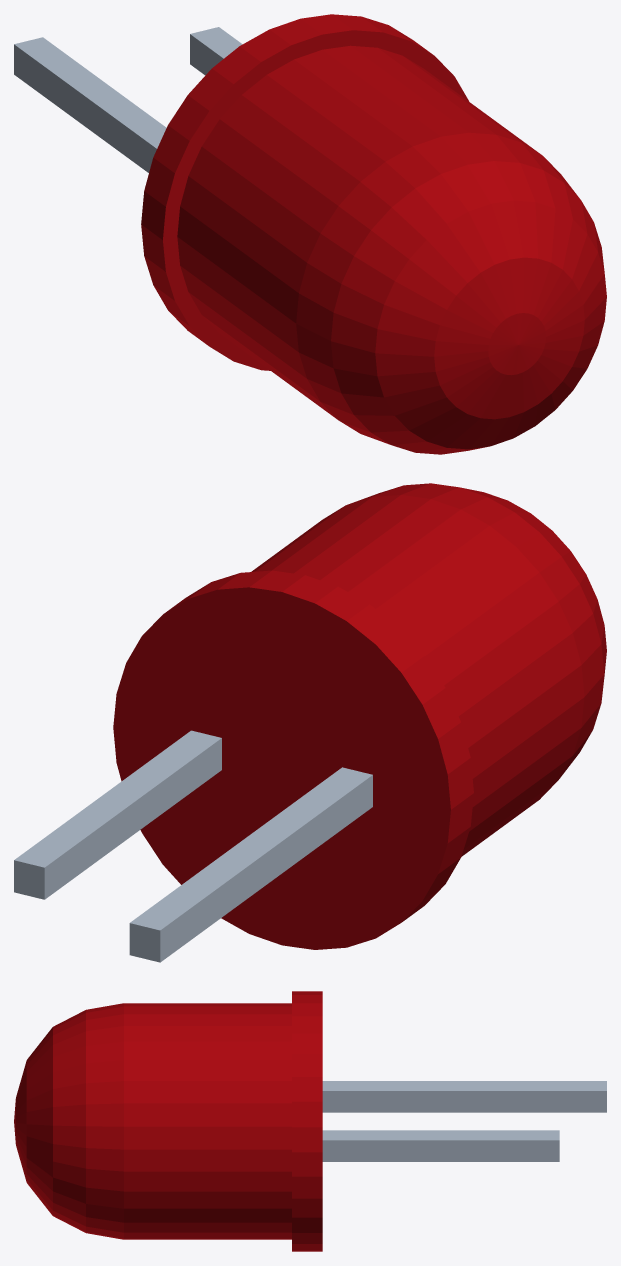
The model's file is onboard_led.obj.
3 renders of one model, top to bottom at view 1: azimuth 30°, elevation 25°; view 2: azimuth 150°, elevation 25°; view 3: azimuth 270°, elevation 25°, orthographic. The views are drawn at different scales.
Visible parts, largest first — view 1: onboard_led; view 2: onboard_led; view 3: onboard_led.
Part boxes in pixels (x1=…): onboard_led: x1=14, y1=14, x2=606, y2=454; onboard_led: x1=14, y1=483, x2=606, y2=962; onboard_led: x1=14, y1=991, x2=606, y2=1251.
Size of the model in its own units: 0.8786 by 0.8786 by 2.
